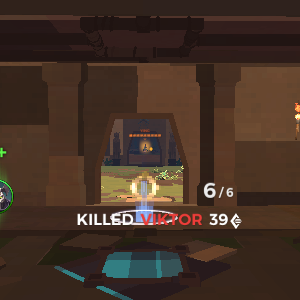model: (142, 143, 147, 152)
